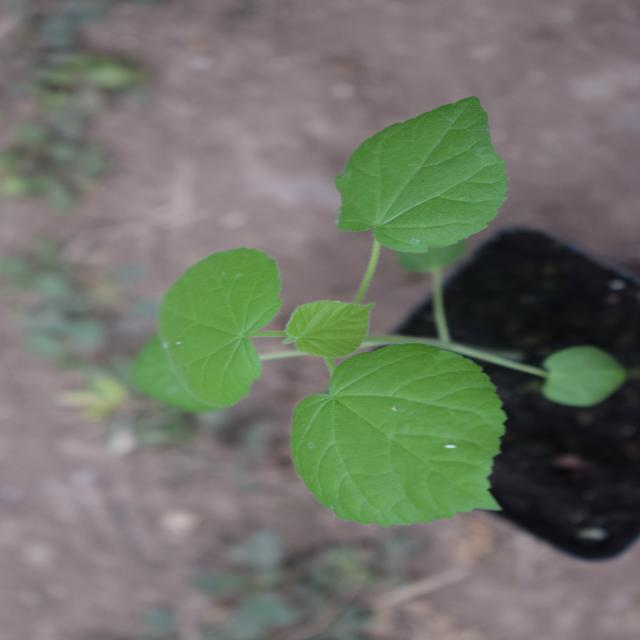abutilon theophrasti: (110, 123, 524, 545)
